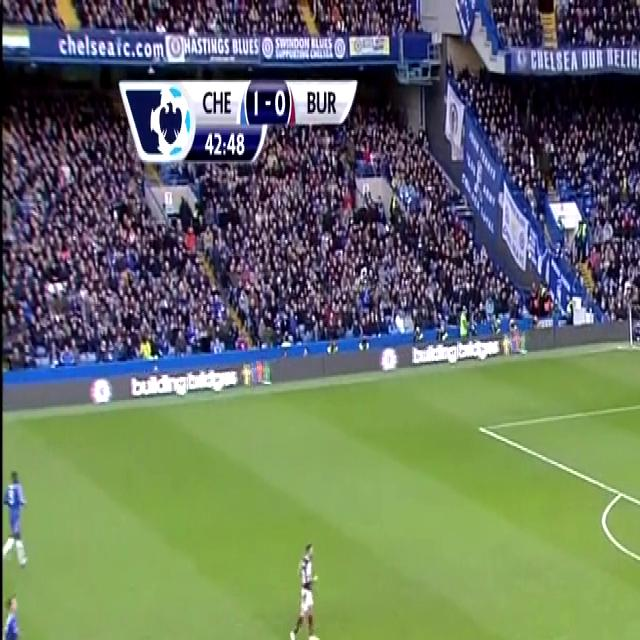soccer-player: (289, 530, 325, 640), (2, 457, 32, 575), (2, 586, 27, 640)
